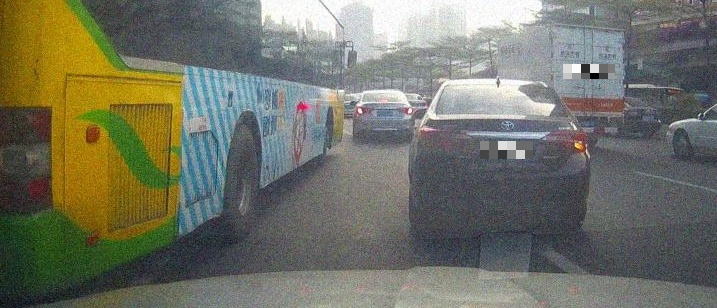L_light: (419, 129, 466, 151), (355, 107, 370, 115)
R_light: (540, 131, 587, 153), (398, 106, 413, 115)
T_light: (490, 108, 518, 115), (379, 99, 390, 102)
day-brake: (355, 90, 414, 142)
day-right: (414, 78, 590, 237)
plate_1: (480, 141, 533, 159)
plate_2: (563, 64, 615, 79)
